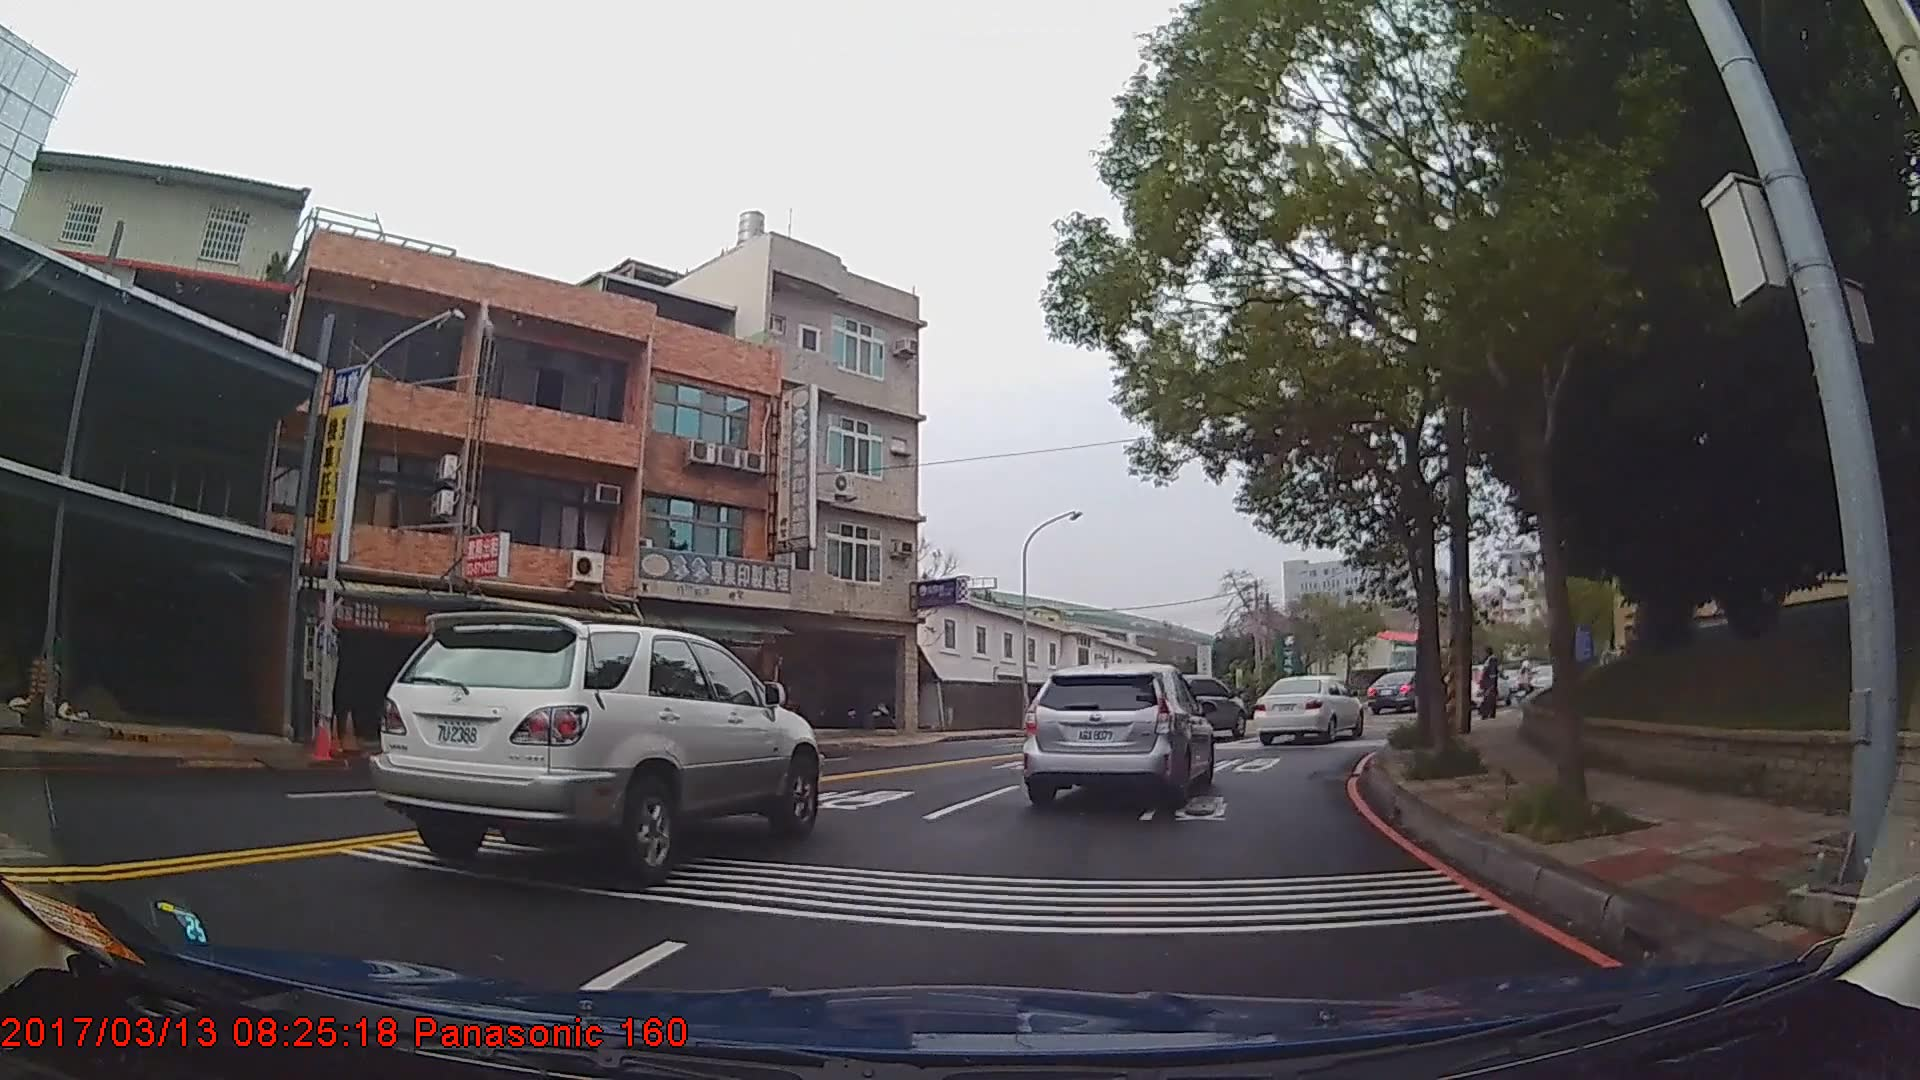vehicle: (368, 611, 823, 891), (1019, 661, 1215, 814), (1249, 673, 1364, 744), (1153, 674, 1247, 741), (1367, 667, 1437, 716)
